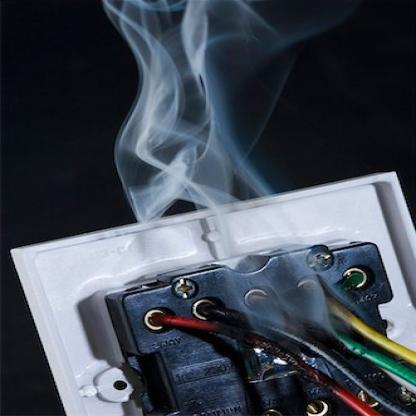smoke: (92, 2, 379, 355)
